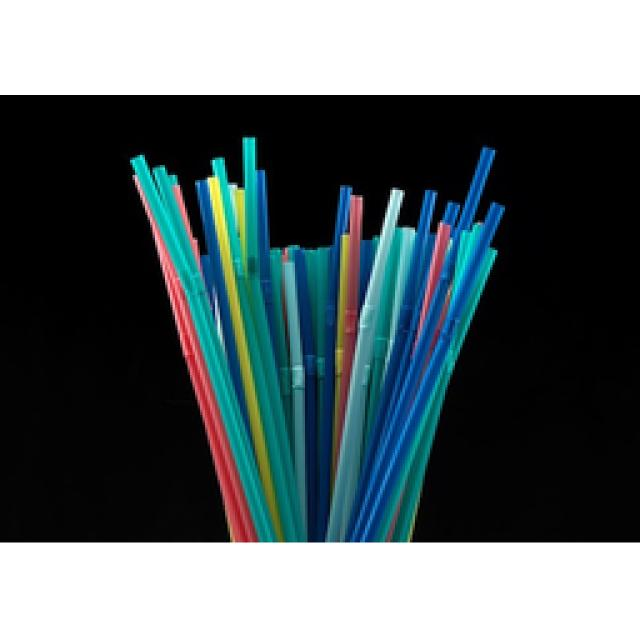plastic: (122, 132, 508, 540), (125, 150, 265, 540)
